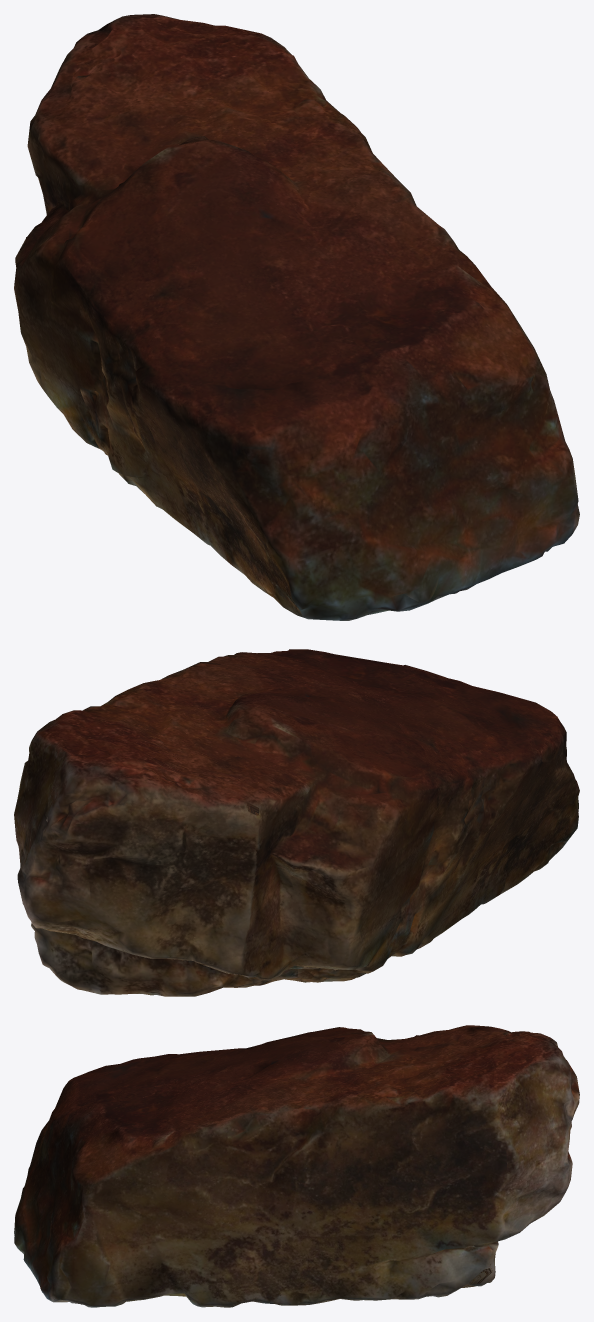
The model's file is loose-rock-0-near.glb.
The picture shows the model from 3 angles, top to bottom: view 1: azimuth 30°, elevation 25°; view 2: azimuth 150°, elevation 25°; view 3: azimuth 270°, elevation 25°; orthographic projection. The views are drawn at different scales.
Parts seen in each view (by area): view 1: rock_07; view 2: rock_07; view 3: rock_07.
Boxes of the visible parts, x1,y1,x2,y2 form: rock_07: [14, 14, 579, 620]; rock_07: [14, 649, 579, 996]; rock_07: [14, 1025, 579, 1307].
Bounding box in the file's own units: 0.5263 × 0.4487 × 0.9996.
1 material, 1 textured.
